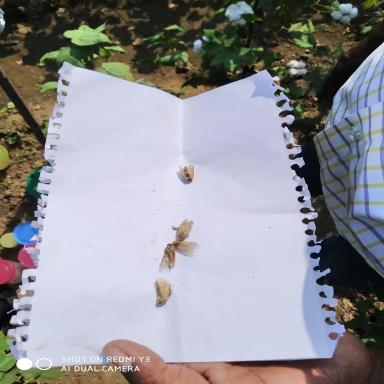abw: (153, 277, 172, 304), (163, 241, 177, 274), (176, 220, 196, 240), (178, 164, 195, 184), (172, 242, 202, 252)
